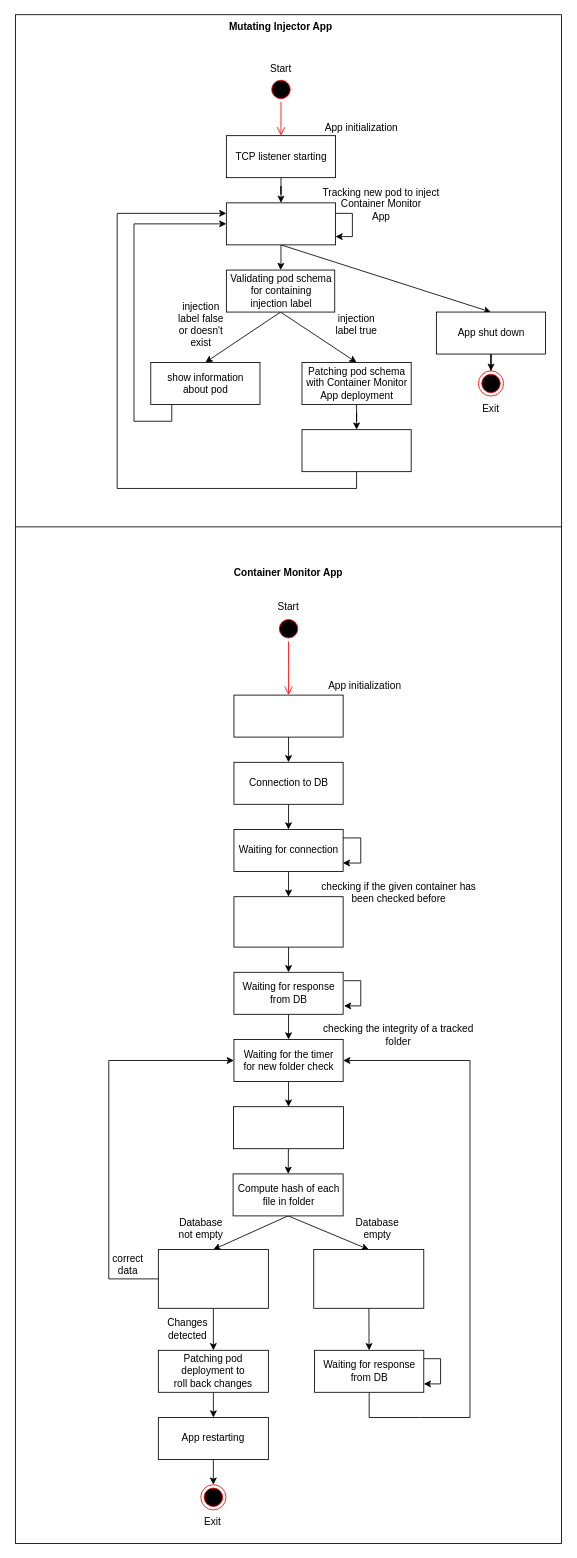
The diagram is 577 pixels wide and 1558 high, and some of its shapes have lost their labels. Here are the shapes that lost their labels. From the top down, the centre of each, then its label:
At [281,223]: "Waiting for a new pod in cluster".
At [356,450]: "Message about successful patching".
At [288,715]: "Reading configs and env variables".
At [288,921]: "Request to DB Select all information about file hashes in tracking folder".
At [288,1127]: "Open tracking folder".
At [213,1278]: "Compare file information from database with new file information".
At [368,1278]: "Request to DB Insert all information about file hashes in tracking folder".
